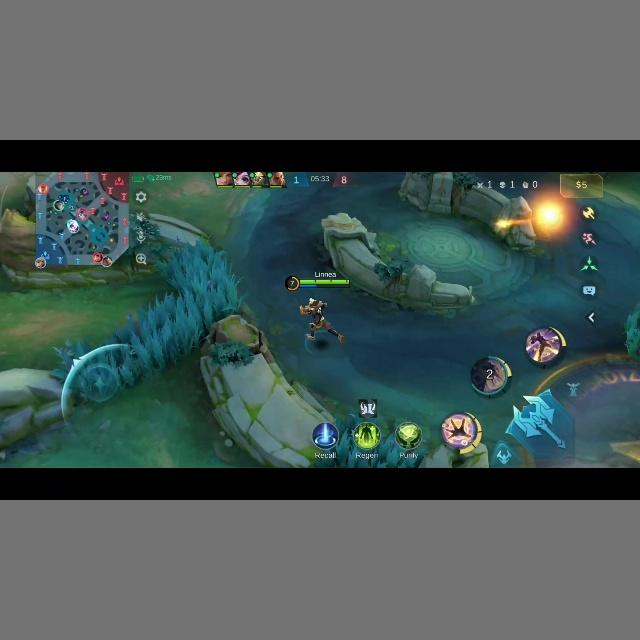hero_self: (298, 299, 344, 347)
hp_self: (284, 276, 351, 290)
